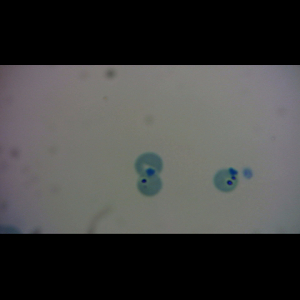erythrocyte: (136, 167, 163, 197), (133, 152, 164, 178), (213, 167, 241, 193)
